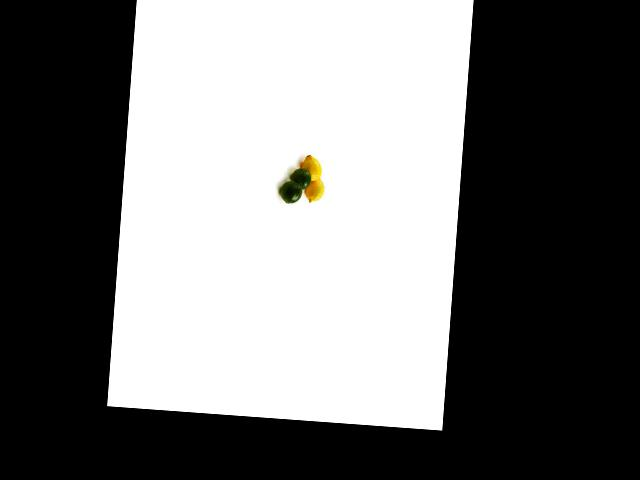lemon: (279, 179, 303, 207)
